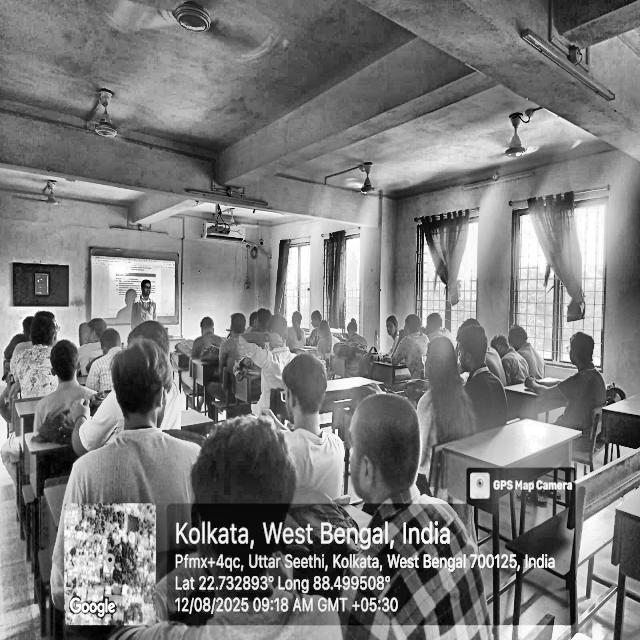Focus: (0, 287, 435, 549), (272, 279, 612, 403), (196, 301, 305, 358), (124, 264, 161, 317)
Not Focus: (571, 312, 613, 422), (386, 306, 416, 346)
